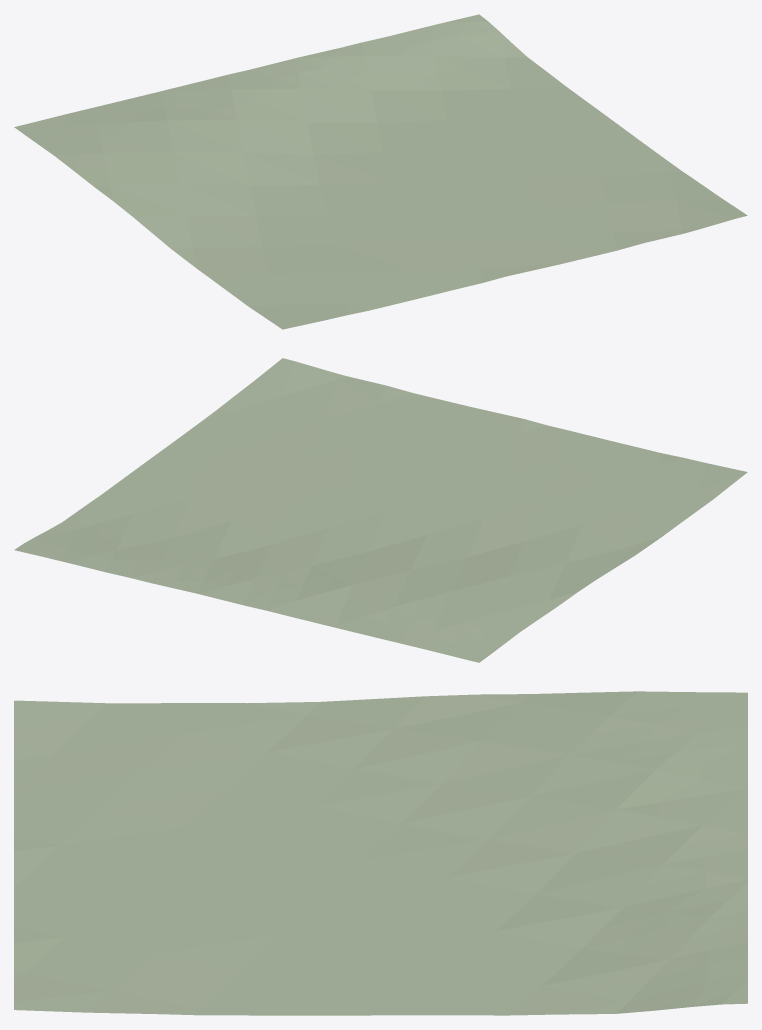
Rendered from SM_MPRR_Terrain_-1_-2.fbx.
The picture shows the model from 3 angles, top to bottom: view 1: azimuth 30°, elevation 25°; view 2: azimuth 150°, elevation 25°; view 3: azimuth 270°, elevation 25°; orthographic projection. The views are drawn at different scales.
Visible parts, largest first — view 1: SM_MPRR_Terrain_-1_-2; view 2: SM_MPRR_Terrain_-1_-2; view 3: SM_MPRR_Terrain_-1_-2.
Boxes of the visible parts, x1=… form: SM_MPRR_Terrain_-1_-2: x1=14, y1=14, x2=747, y2=329; SM_MPRR_Terrain_-1_-2: x1=14, y1=358, x2=747, y2=662; SM_MPRR_Terrain_-1_-2: x1=14, y1=691, x2=747, y2=1015.
Bounding box in the file's own units: 15000 × 15000 × 349.
